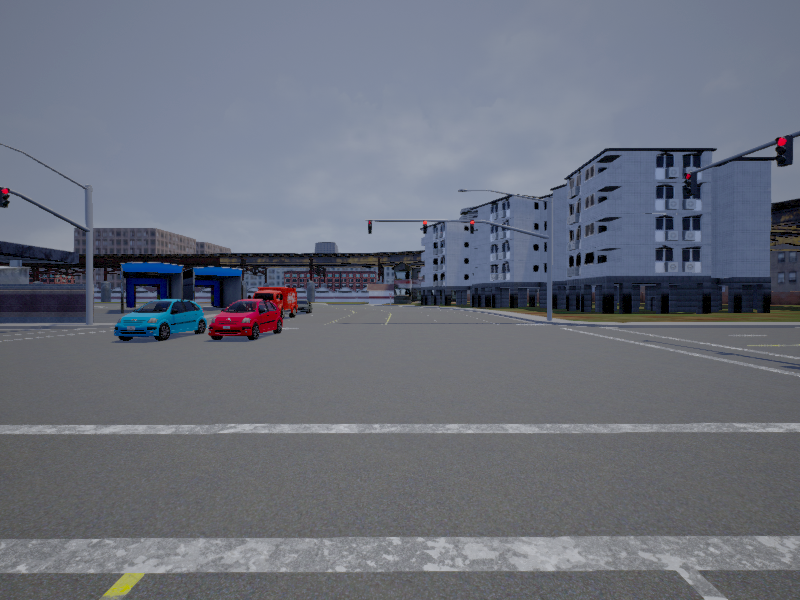Benign: (119, 299, 208, 341), (210, 298, 284, 341), (250, 285, 298, 320)
